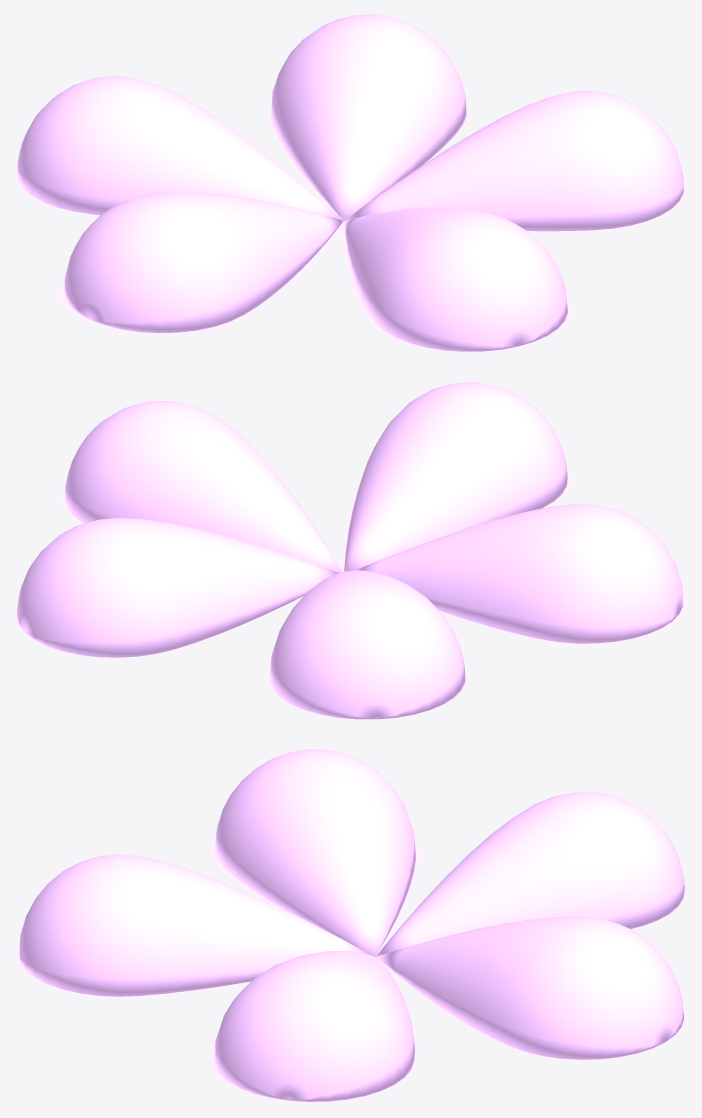
Rendered from flower_sticker.glb.
3 views of the same model, one above another, from view 1: azimuth 30°, elevation 25°; view 2: azimuth 150°, elevation 25°; view 3: azimuth 270°, elevation 25° (orthographic). The views are drawn at different scales.
Bounding box in the file's own units: 2.9 × 0.4225 × 2.76.
